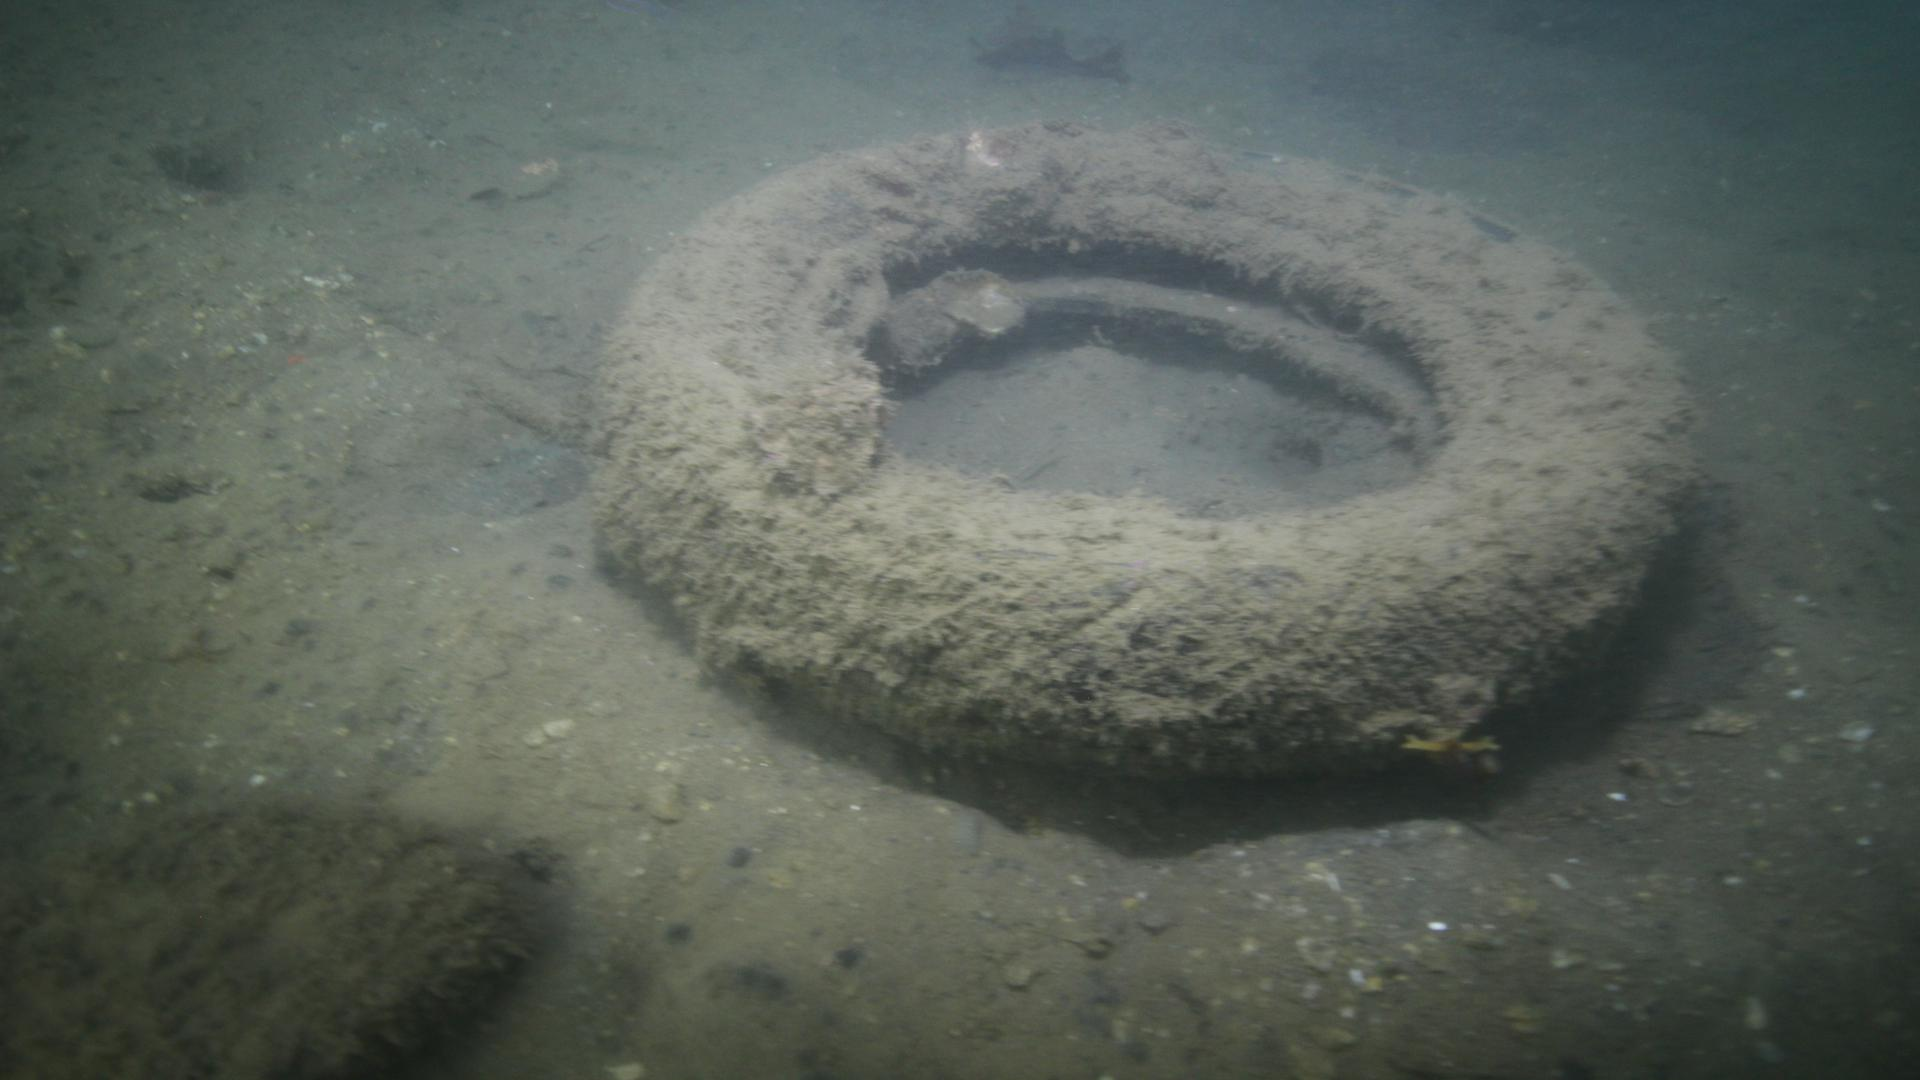tire: (599, 116, 1706, 819)
